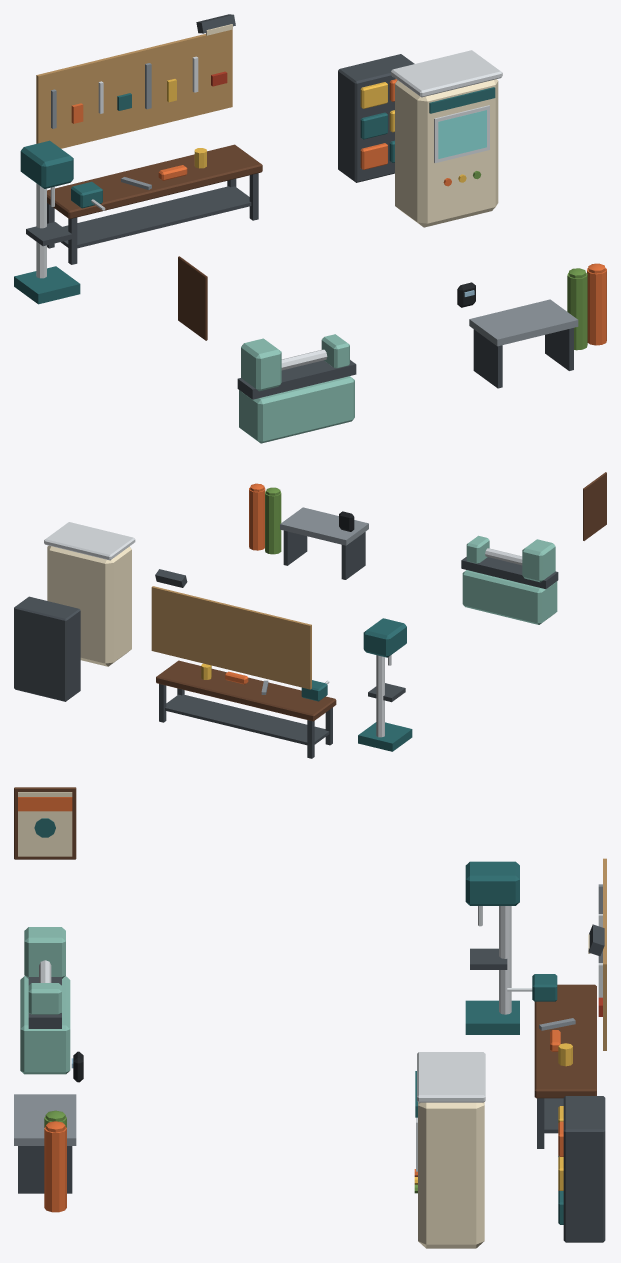
Rendered from Room_Workshop_L3.fbx.
3 views of the same model, one above another, from view 1: azimuth 30°, elevation 25°; view 2: azimuth 150°, elevation 25°; view 3: azimuth 270°, elevation 25° (orthographic). The views are drawn at different scales.
Visible parts, largest first — view 1: Decor, Fabricator1, Workbench1, Lathe1, Bins1, WeldTable1, DecorNeon, DrillBase1, Bottle2, Bottle1; view 2: Decor, Fabricator1, Bins1, Workbench1, Lathe1, WeldTable1, DrillBase1, Bottle1, Bottle2; view 3: Decor, Fabricator1, Bins1, Workbench1, Lathe1, WeldTable1, Bottle2, DrillBase1.
Boxes of the visible parts, x1,y1,x2,y2 form: Decor: (20, 14, 605, 399); Fabricator1: (395, 79, 498, 227); Workbench1: (47, 144, 262, 219); Lathe1: (239, 376, 354, 443); Bins1: (338, 54, 414, 182); WeldTable1: (469, 299, 578, 346); DecorNeon: (206, 24, 486, 296); DrillBase1: (14, 266, 80, 304); Bottle2: (587, 268, 606, 345); Bottle1: (567, 272, 587, 350); Decor: (44, 472, 606, 758); Fabricator1: (47, 545, 131, 666); Bins1: (14, 596, 80, 701); Workbench1: (156, 660, 336, 721); Lathe1: (462, 570, 557, 624); WeldTable1: (280, 507, 368, 545); DrillBase1: (358, 722, 412, 751); Bottle1: (265, 491, 281, 554); Bottle2: (249, 487, 265, 550); Decor: (14, 787, 606, 1224); Fabricator1: (418, 1102, 484, 1248); Bins1: (563, 1096, 605, 1242); Workbench1: (534, 984, 596, 1098); Lathe1: (20, 976, 70, 1074); WeldTable1: (14, 1094, 76, 1145); Bottle2: (44, 1127, 66, 1212); DrillBase1: (465, 1000, 519, 1034).
Size of the model in its own units: 29.55 by 10.98 by 28.48.
